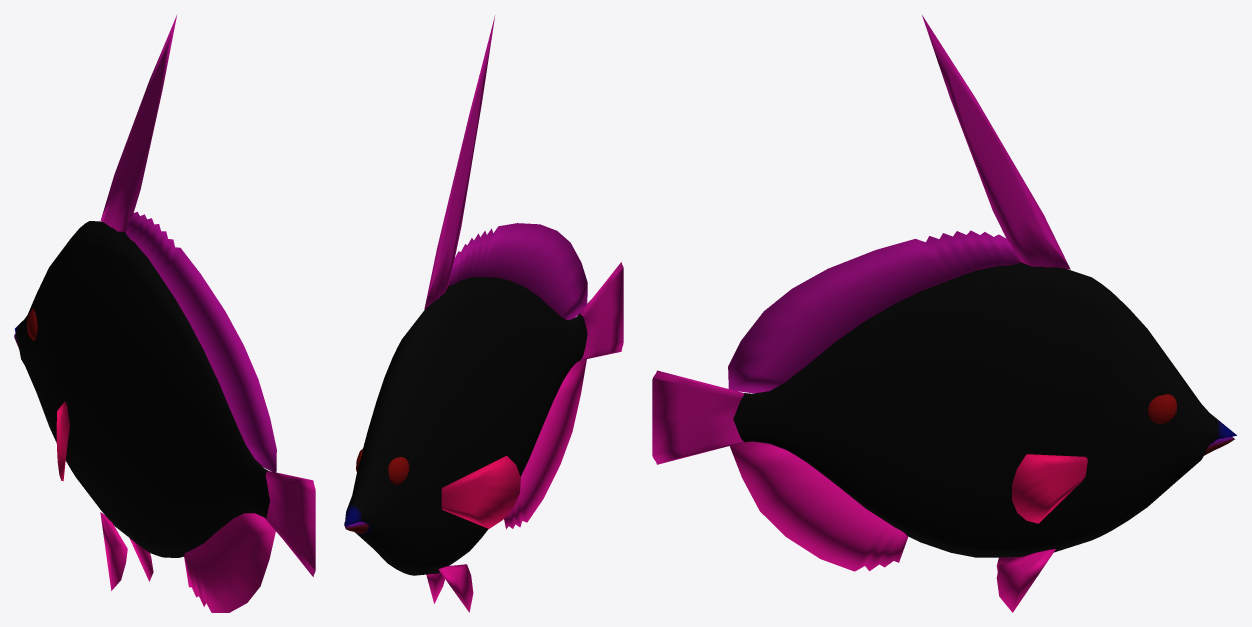
The model's file is butterflyfish_bannerfish_game.glb.
3 renders of one model, left to right at view 1: azimuth 30°, elevation 25°; view 2: azimuth 150°, elevation 25°; view 3: azimuth 270°, elevation 25°, orthographic. The views are drawn at different scales.
Visible parts, largest first — view 1: butterflyfish_bannerfish_game; view 2: butterflyfish_bannerfish_game; view 3: butterflyfish_bannerfish_game.
Part boxes in pixels (x1,y1,x2,y2): butterflyfish_bannerfish_game: (14,15,315,612); butterflyfish_bannerfish_game: (344,15,623,612); butterflyfish_bannerfish_game: (652,15,1236,612).
Bounding box in the file's own units: 0.0511 × 0.2002 × 0.18.
